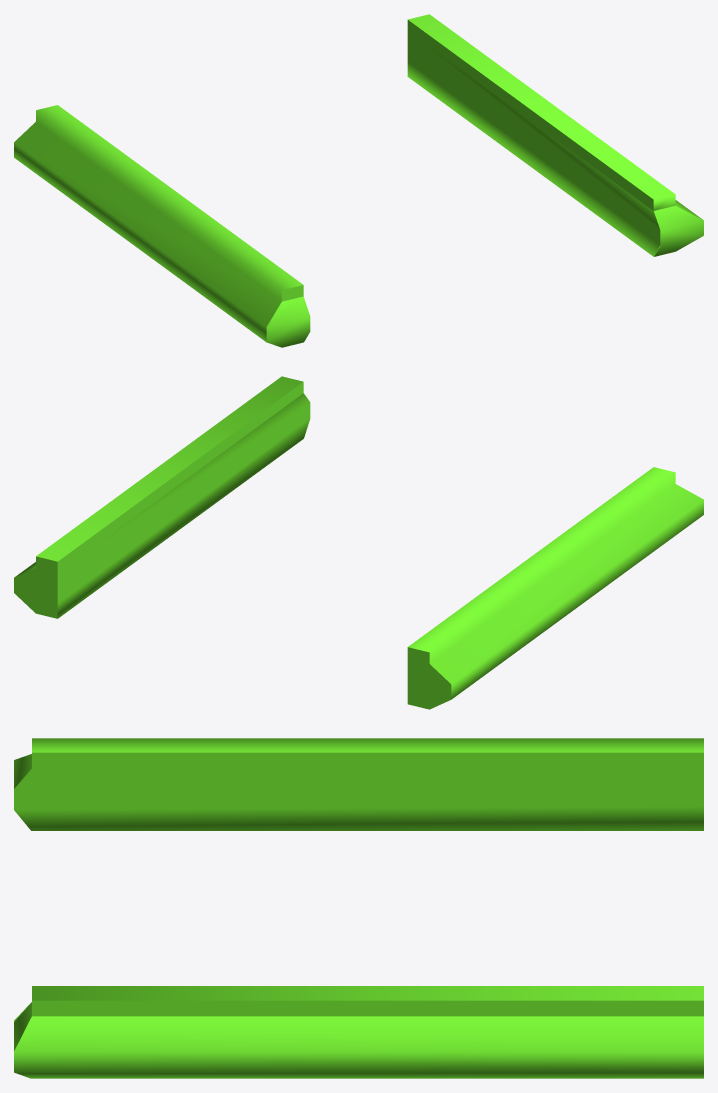
The model's file is Cinta_Fin_Barras.FBX.
The picture shows the model from 3 angles, top to bottom: view 1: azimuth 30°, elevation 25°; view 2: azimuth 150°, elevation 25°; view 3: azimuth 270°, elevation 25°; orthographic projection. The views are drawn at different scales.
Visible parts, largest first — view 1: Cinta_Fin_Barras; view 2: Cinta_Fin_Barras; view 3: Cinta_Fin_Barras.
Boxes of the visible parts, left/top/right/bottom form: Cinta_Fin_Barras: left=14, top=14, right=703, bottom=347; Cinta_Fin_Barras: left=14, top=376, right=703, bottom=709; Cinta_Fin_Barras: left=14, top=738, right=703, bottom=1078.
Size of the model in its own units: 100 by 12.5 by 100.
